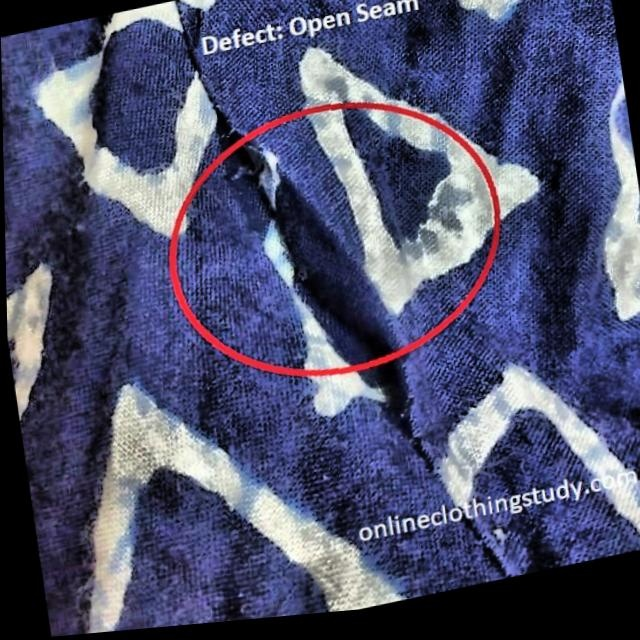seam: (176, 41, 488, 513)
